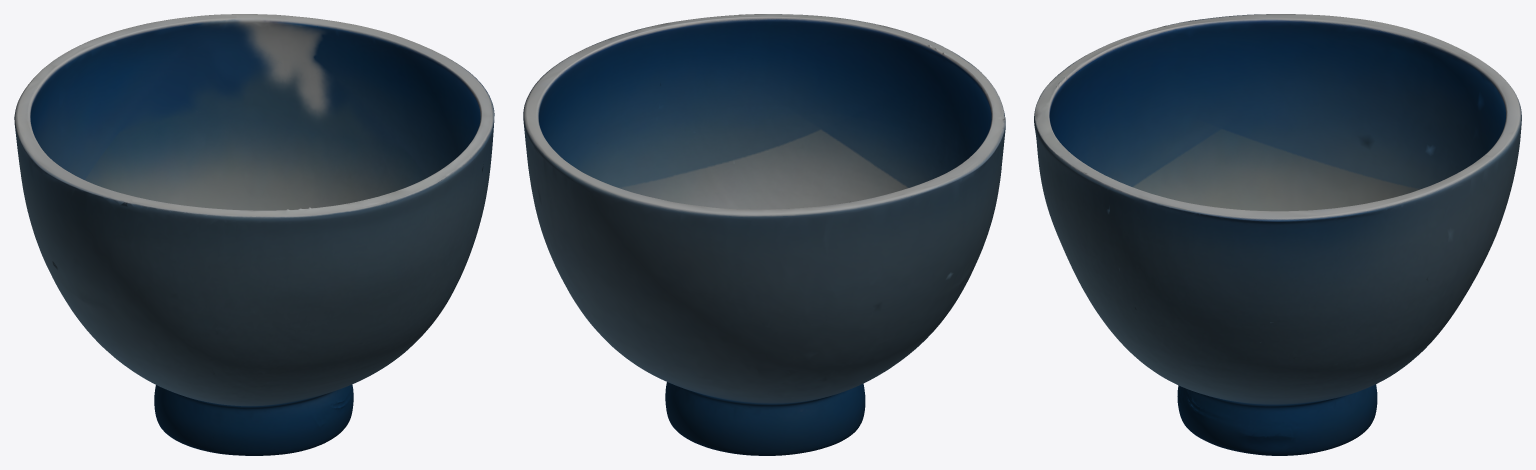
File: mixing_bowl.glb
3 renders of one model, left to right at view 1: azimuth 30°, elevation 25°; view 2: azimuth 150°, elevation 25°; view 3: azimuth 270°, elevation 25°, orthographic.
Visible parts, largest first — view 1: node_0; view 2: node_0; view 3: node_0.
Part boxes in pixels (bbox=[...]): node_0: bbox=[14, 14, 494, 455]; node_0: bbox=[523, 14, 1005, 455]; node_0: bbox=[1034, 14, 1521, 455].
Bounding box in the file's own units: 0.9945 × 0.6858 × 0.9944.
1 material, 1 textured.
